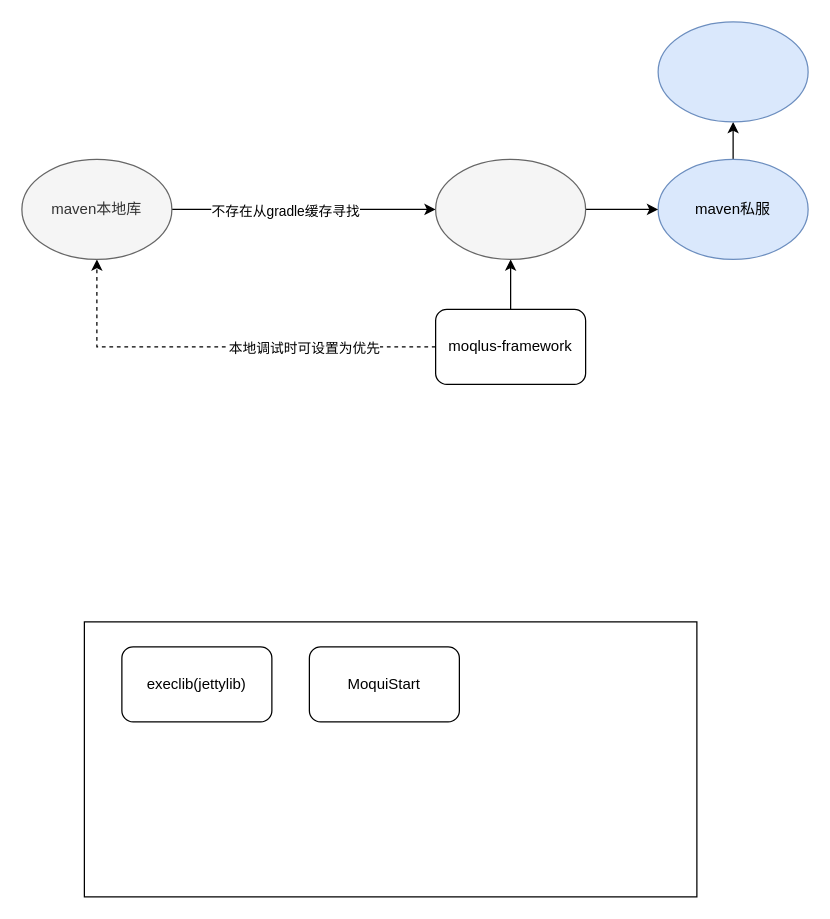
The diagram is 830 pixels wide and 919 high, and some of its shapes have lost their labels. The box of each missing label's shape, as (x1, y1, x2, y2) in pixels:
gradle缓存: (434, 158, 586, 259)
阿里云代理: (657, 21, 808, 122)
